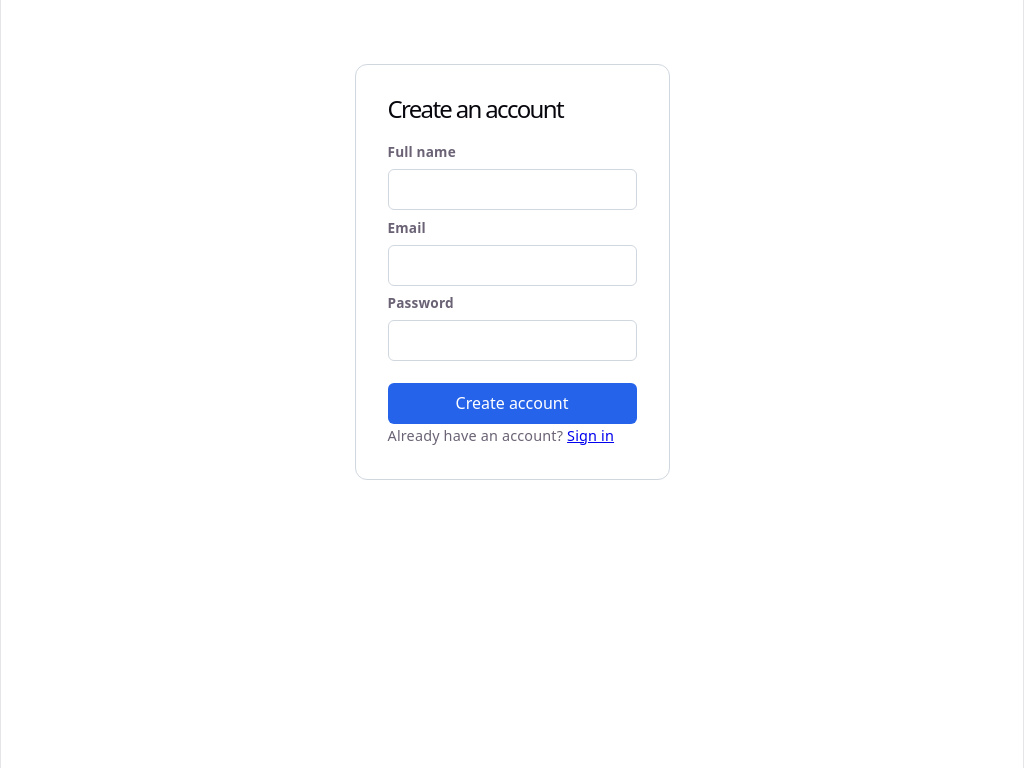
Test: registering › reports an email that is already taken
The width and height of the screenshot is (1024, 768).
In the field labelled "Full name": x=512, y=190 x1=388 y1=169 x2=636 y2=210, type "Grace Hopper"
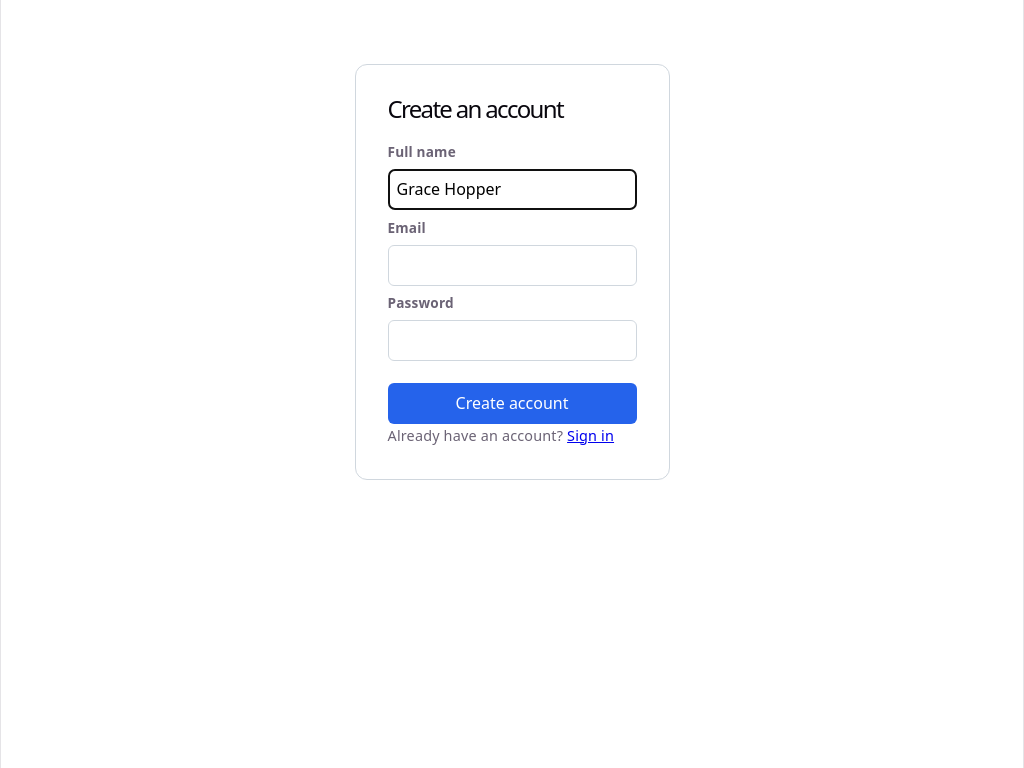
In the field labelled "Email": x=512, y=265 x1=388 y1=245 x2=636 y2=286, type "grace@example.com"
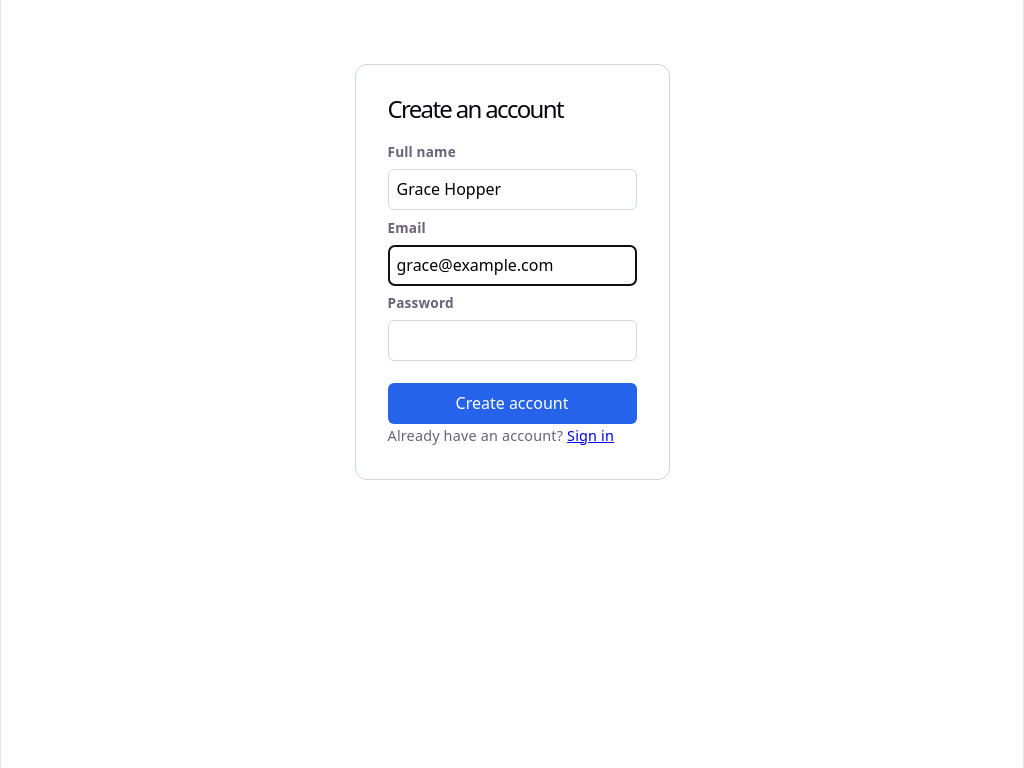
In the password field labelled "Password": x=512, y=341 x1=388 y1=320 x2=636 y2=361, type "super-secret-1"
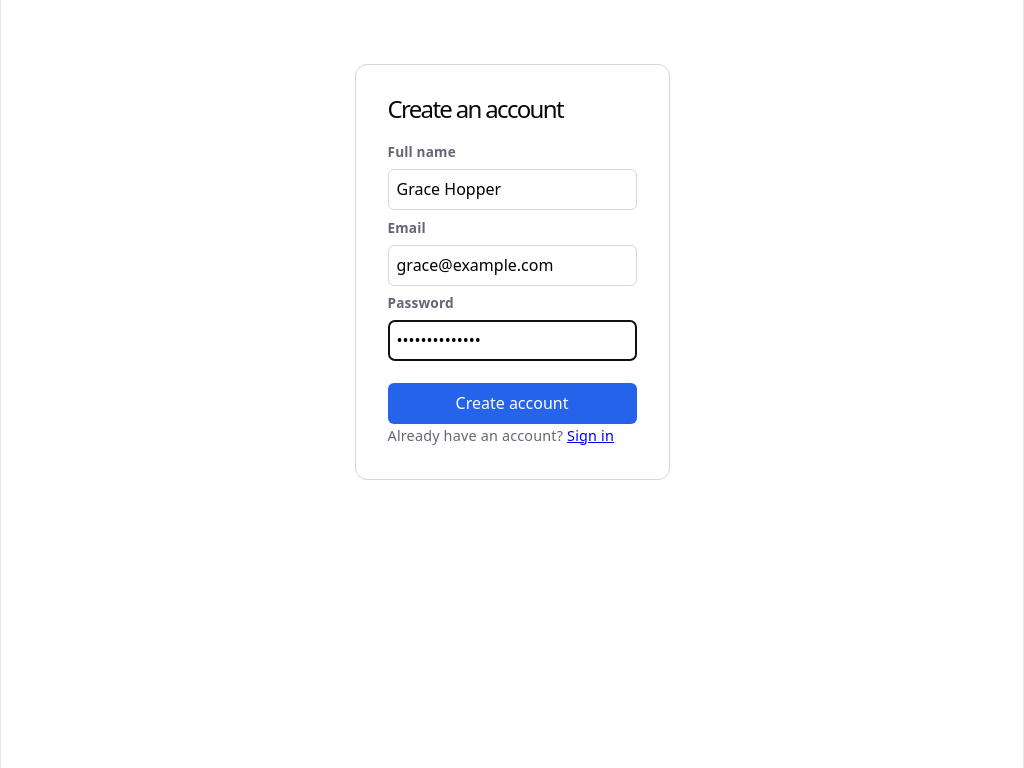
Click the button "Create account": x=512, y=403 x1=388 y1=383 x2=636 y2=424
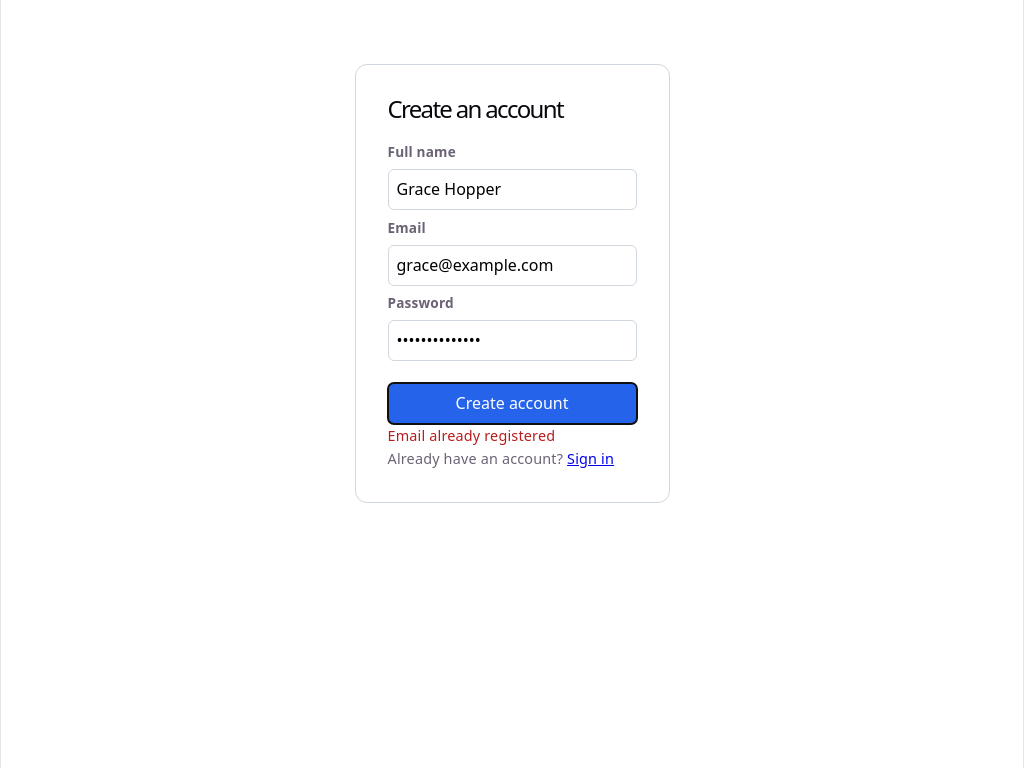
Check: the message reads "Email already registered", box x1=388 y1=426 x2=555 y2=445
